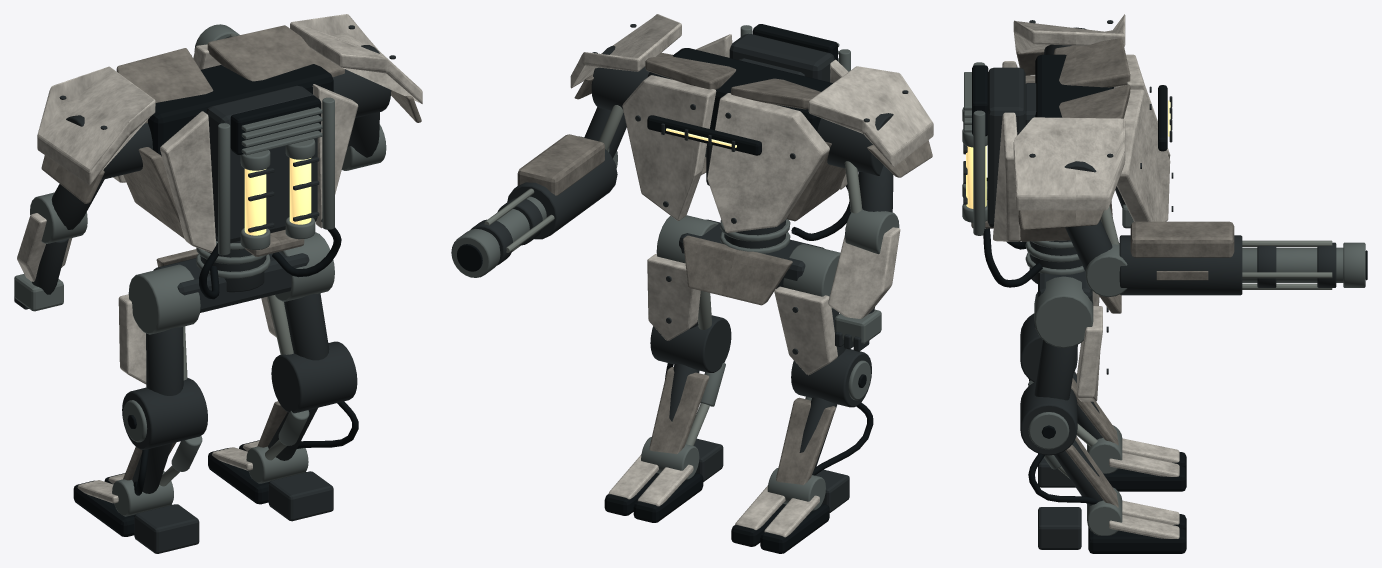
File: player.glb
3 views of the same model, side by side, from view 1: azimuth 30°, elevation 25°; view 2: azimuth 150°, elevation 25°; view 3: azimuth 270°, elevation 25° (orthographic). The views are drawn at different scales.
Parts seen in each view (by area): view 1: PlayerBot_Torso_MAT_player_ceramic_static, PlayerBot_Torso_MAT_graphite_static, PlayerBot_Torso_MAT_player_ceramic_shadow_static, PlayerBot_Torso_MAT_graphite_light_static, PlayerBot_Torso_MAT_ink_static, PlayerBot_Knee_FR_MAT_graphite_static, PlayerBot_Knee_FL_MAT_graphite_static, PlayerBot_PlayerBot_MAT_graphite_static, Hip_bearing_FL, PlayerBot_Knee_FL_MAT_graphite_light_static, PlayerBot_Torso_MAT_player_lime_hot_static, PlayerBot_Leg_FL_MAT_graphite_static (+12 smaller); view 2: PlayerBot_Torso_MAT_player_ceramic_static, PlayerBot_Torso_MAT_graphite_static, PlayerBot_Torso_MAT_player_ceramic_shadow_static, PlayerBot_Torso_MAT_ink_static, Pelvis_front_guard, PlayerBot_Knee_FR_MAT_graphite_static, PlayerBot_WeaponPitch_MAT_graphite_static, PlayerBot_Knee_FL_MAT_graphite_static, Thigh_shield_FL, Thigh_shield_FR, PlayerBot_WeaponPitch_MAT_player_ceramic_shadow_static, PlayerBot_Torso_MAT_graphite_light_static (+15 smaller); view 3: PlayerBot_Torso_MAT_player_ceramic_static, PlayerBot_Torso_MAT_player_ceramic_shadow_static, PlayerBot_WeaponPitch_MAT_graphite_static, PlayerBot_Torso_MAT_graphite_static, PlayerBot_Knee_FR_MAT_graphite_static, PlayerBot_Torso_MAT_ink_static, PlayerBot_WeaponPitch_MAT_player_ceramic_shadow_static, PlayerBot_Torso_MAT_graphite_light_static, Hip_bearing_FR, PlayerBot_WeaponPitch_MAT_graphite_light_static, PlayerBot_Knee_FR_MAT_ink_static, PlayerBot_Knee_FR_MAT_graphite_light_static (+13 smaller).
Part boxes in pixels (x1,y1,x2,y2): PlayerBot_Torso_MAT_player_ceramic_static: (17,14,422,281); PlayerBot_Torso_MAT_graphite_static: (14,25,395,309); PlayerBot_Torso_MAT_player_ceramic_shadow_static: (41,25,421,256); PlayerBot_Torso_MAT_graphite_light_static: (14,97,386,311); PlayerBot_Torso_MAT_ink_static: (148,64,341,299); PlayerBot_Knee_FR_MAT_graphite_static: (268,341,357,521); PlayerBot_Knee_FL_MAT_graphite_static: (122,378,207,553); PlayerBot_PlayerBot_MAT_graphite_static: (153,238,309,312); Hip_bearing_FL: (128,264,200,334); PlayerBot_Knee_FL_MAT_graphite_light_static: (112,400,202,516); PlayerBot_Torso_MAT_player_lime_hot_static: (244,158,311,235); PlayerBot_Leg_FL_MAT_graphite_static: (146,327,183,395); PlayerBot_Torso_MAT_player_ceramic_static: (570,14,933,318); PlayerBot_Torso_MAT_graphite_static: (584,24,908,351); PlayerBot_Torso_MAT_player_ceramic_shadow_static: (574,52,932,221); PlayerBot_Torso_MAT_ink_static: (647,24,850,240); Pelvis_front_guard: (683,235,792,305); PlayerBot_Knee_FR_MAT_graphite_static: (650,315,731,481); PlayerBot_WeaponPitch_MAT_graphite_static: (470,149,617,265); PlayerBot_Knee_FL_MAT_graphite_static: (791,348,871,512); Thigh_shield_FL: (774,286,837,375); Thigh_shield_FR: (647,254,700,340); PlayerBot_WeaponPitch_MAT_player_ceramic_shadow_static: (517,134,604,195); PlayerBot_Torso_MAT_graphite_light_static: (579,25,899,344); PlayerBot_Torso_MAT_player_ceramic_static: (993,14,1170,241); PlayerBot_Torso_MAT_player_ceramic_shadow_static: (971,38,1130,241); PlayerBot_WeaponPitch_MAT_graphite_static: (1119,235,1336,295); PlayerBot_Torso_MAT_graphite_static: (963,20,1173,271); PlayerBot_Knee_FR_MAT_graphite_static: (1020,381,1103,549); PlayerBot_Torso_MAT_ink_static: (972,54,1167,287); PlayerBot_WeaponPitch_MAT_player_ceramic_shadow_static: (1130,221,1234,280); PlayerBot_Torso_MAT_graphite_light_static: (962,62,1133,296); Hip_bearing_FR: (1034,276,1093,347); PlayerBot_WeaponPitch_MAT_graphite_light_static: (1242,242,1365,287); PlayerBot_Knee_FR_MAT_ink_static: (1028,425,1186,553); PlayerBot_Knee_FR_MAT_graphite_light_static: (1028,412,1122,535).
Size of the model in its own units: 1.41 by 1.77 by 1.49.
7 materials, 2 textured.
